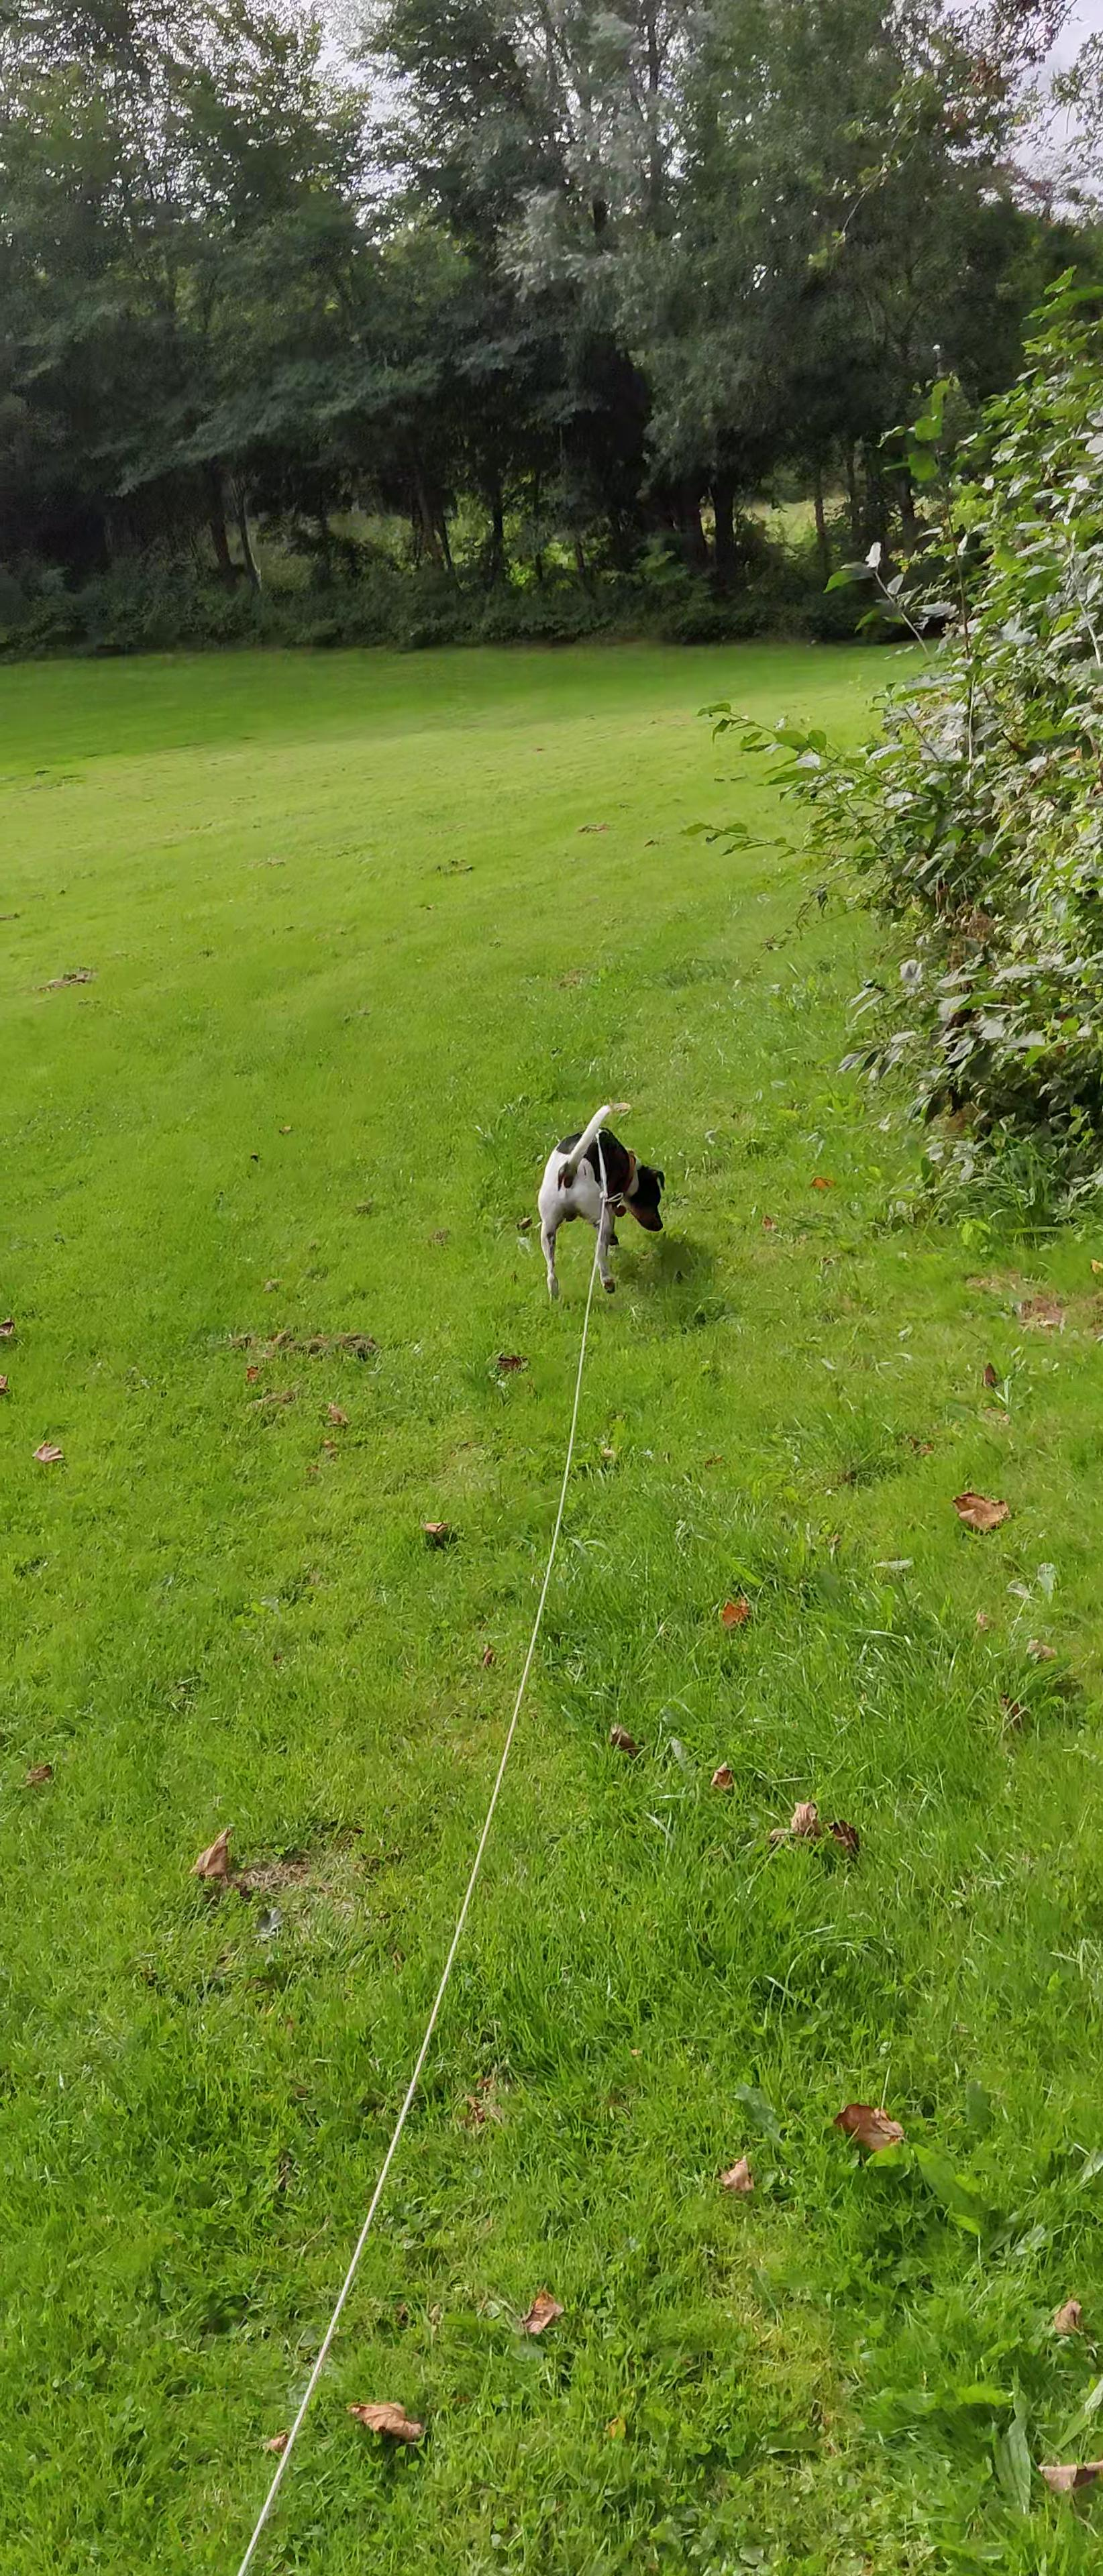Dog: (533, 1099, 667, 1306)
